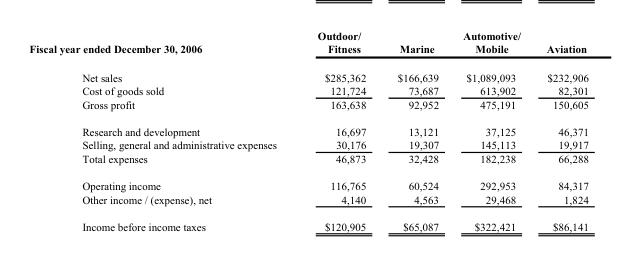table: (28, 29, 587, 231)
table column: (28, 29, 296, 231), (296, 29, 381, 231), (450, 29, 532, 231), (381, 29, 450, 231), (532, 29, 587, 231)
table column header: (28, 29, 587, 62)
table row: (28, 29, 587, 62), (28, 62, 587, 83), (28, 171, 587, 192), (28, 97, 587, 117), (28, 117, 587, 137), (28, 151, 587, 171), (28, 192, 587, 212), (28, 212, 587, 231), (28, 83, 587, 97), (28, 137, 587, 151)
